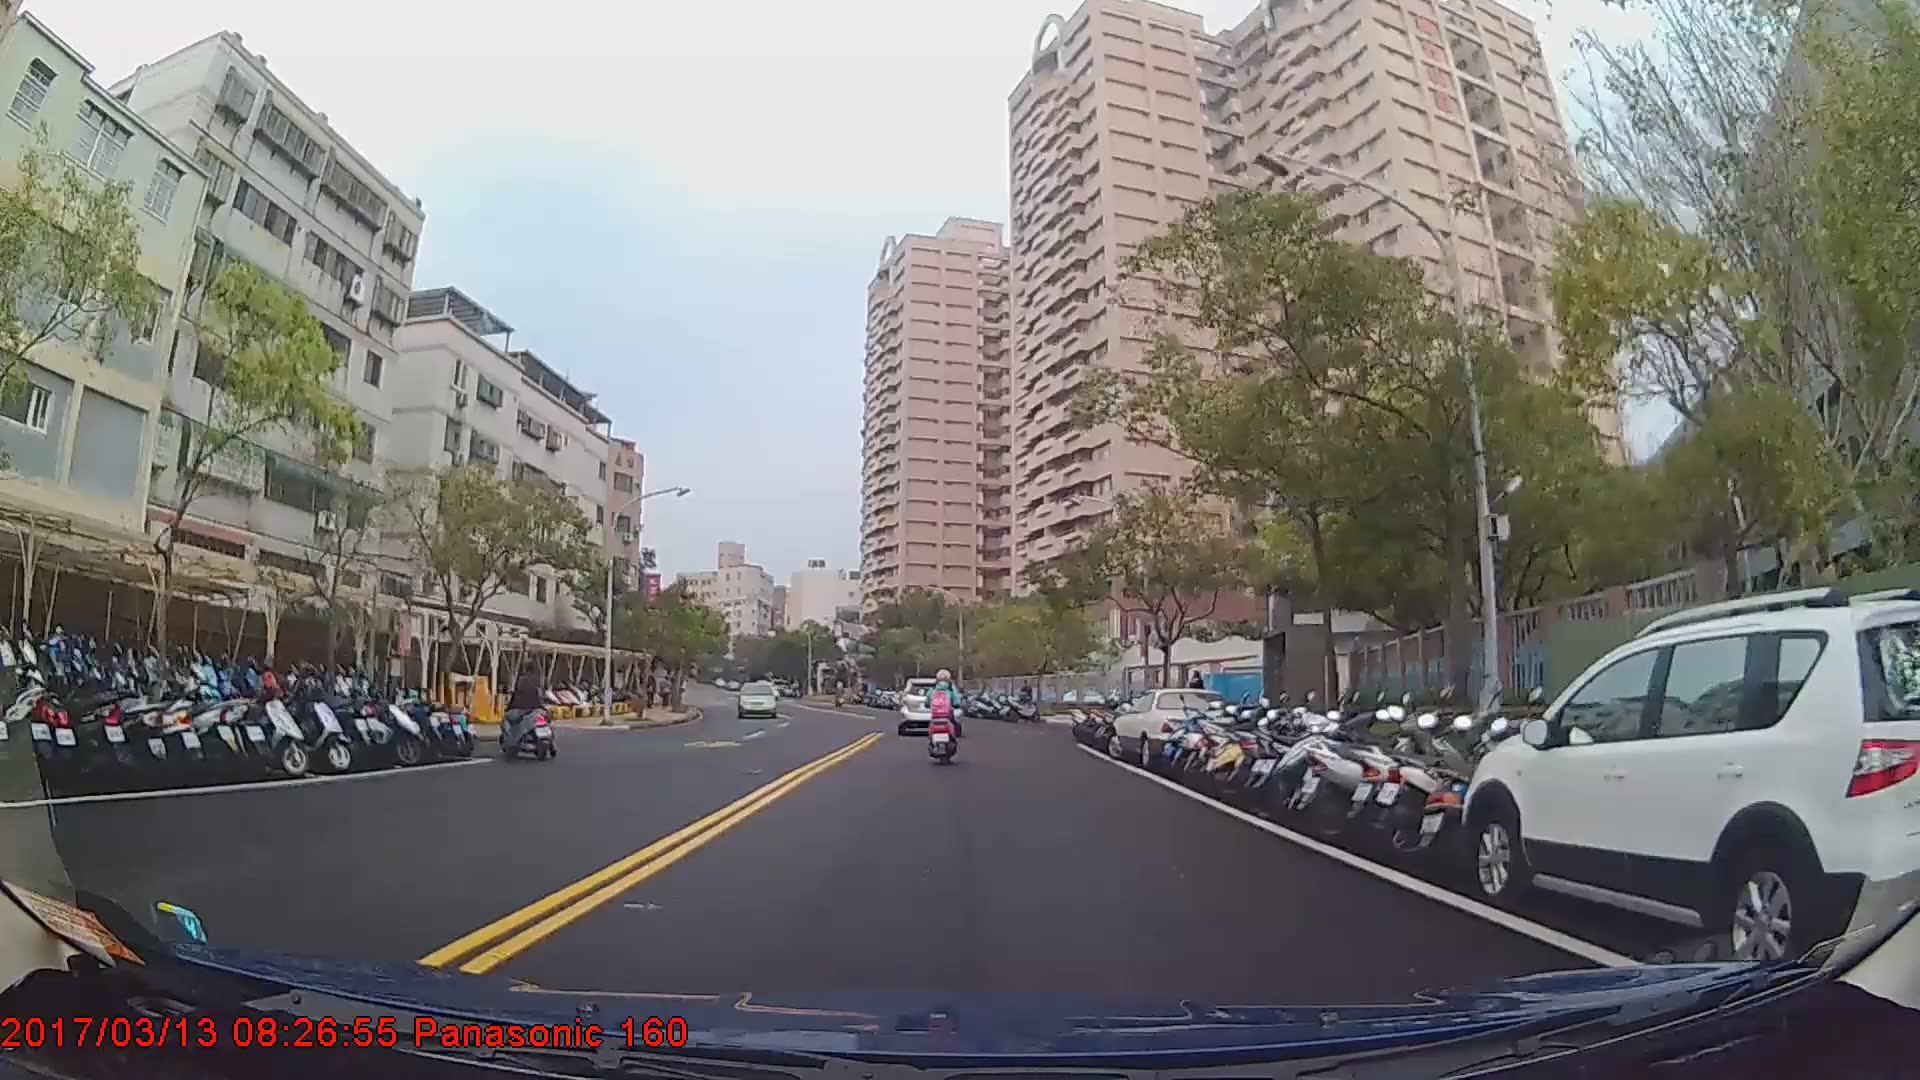pedestrian: (1188, 672, 1208, 723)
rider: (492, 660, 559, 765), (923, 669, 963, 769)
vehicle: (1459, 585, 1920, 976), (1107, 688, 1234, 768), (893, 675, 960, 733), (735, 681, 780, 719)
